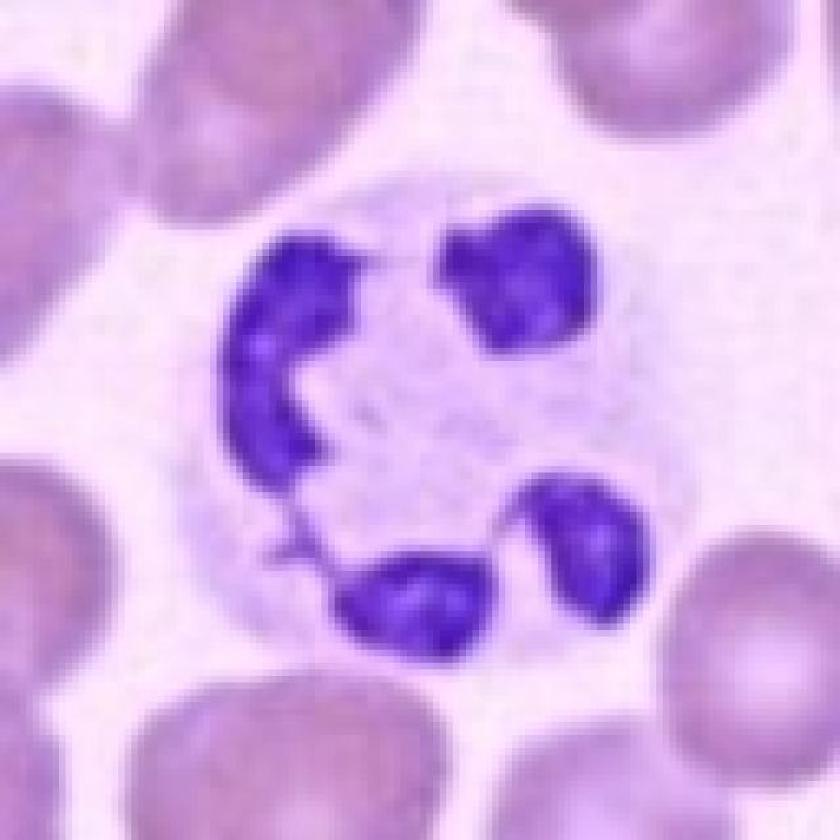neutrophil: (149, 165, 718, 690)
